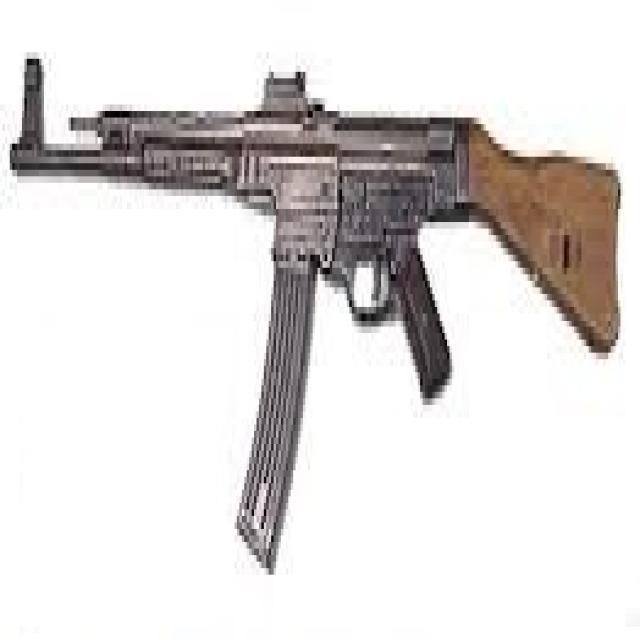rifle: (6, 34, 632, 616)
